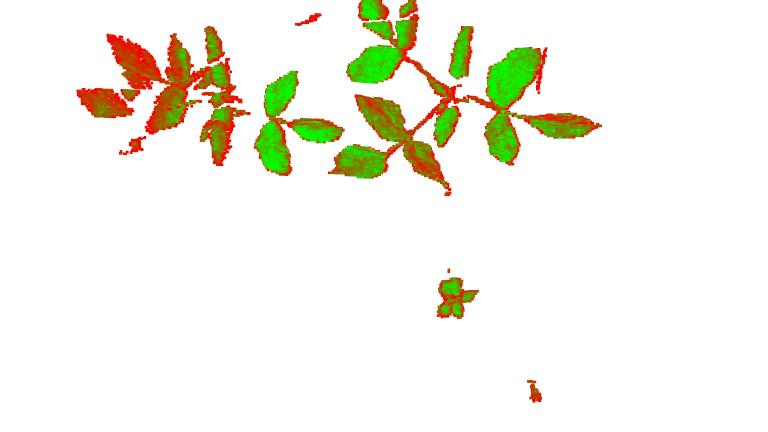mungbean: (340, 1, 603, 195), (75, 26, 340, 176), (433, 267, 480, 323)
